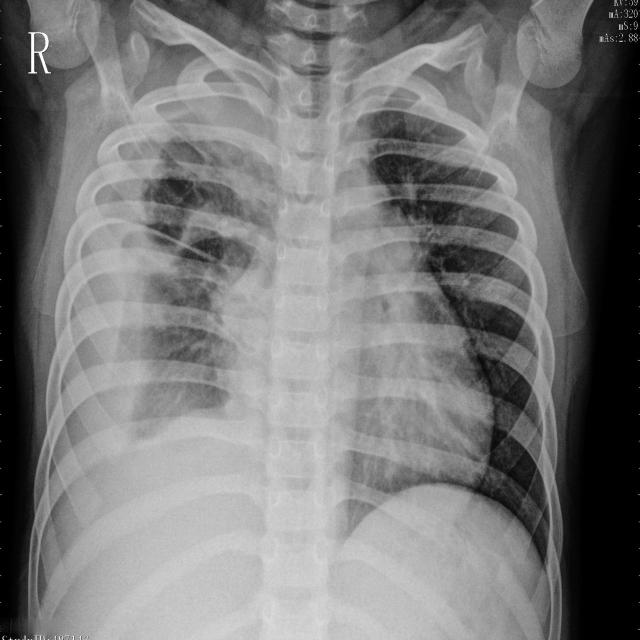high-pneumonia: (45, 94, 194, 445)
low-pneumonia: (185, 56, 284, 250)
